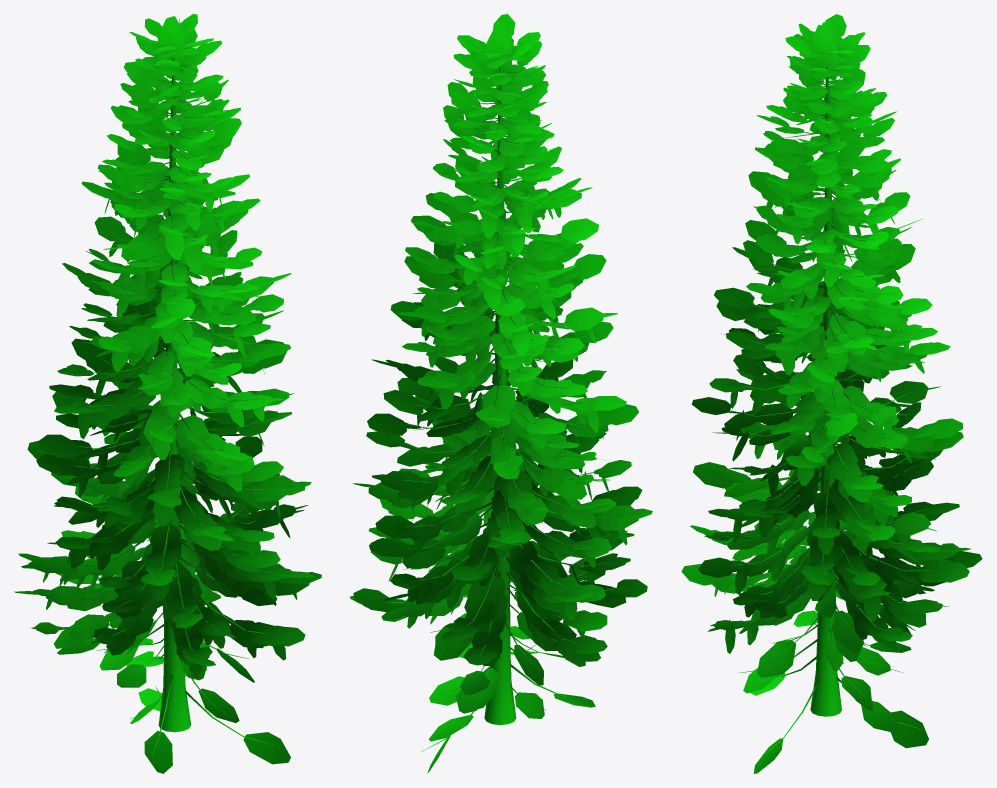
The model's file is tree_spruce_a.glb.
3 views of the same model, side by side, from view 1: azimuth 30°, elevation 25°; view 2: azimuth 150°, elevation 25°; view 3: azimuth 270°, elevation 25° (orthographic). The views are drawn at different scales.
Visible parts, largest first — view 1: tree_spruce_a.2, tree_spruce_a.0, tree_spruce_a.1; view 2: tree_spruce_a.2, tree_spruce_a.0, tree_spruce_a.1; view 3: tree_spruce_a.2, tree_spruce_a.0, tree_spruce_a.1.
Part boxes in pixels (left/top/right/bottom): tree_spruce_a.2: left=14, top=14, right=321, bottom=677; tree_spruce_a.0: left=47, top=42, right=283, bottom=755; tree_spruce_a.1: left=57, top=585, right=290, bottom=773; tree_spruce_a.2: left=350, top=14, right=652, bottom=666; tree_spruce_a.0: left=385, top=48, right=626, bottom=751; tree_spruce_a.1: left=427, top=589, right=600, bottom=773; tree_spruce_a.2: left=681, top=14, right=982, bottom=653; tree_spruce_a.0: left=723, top=44, right=945, bottom=754; tree_spruce_a.1: left=743, top=586, right=928, bottom=773.
Bounding box in the file's own units: 6.63 × 17.73 × 6.78.
